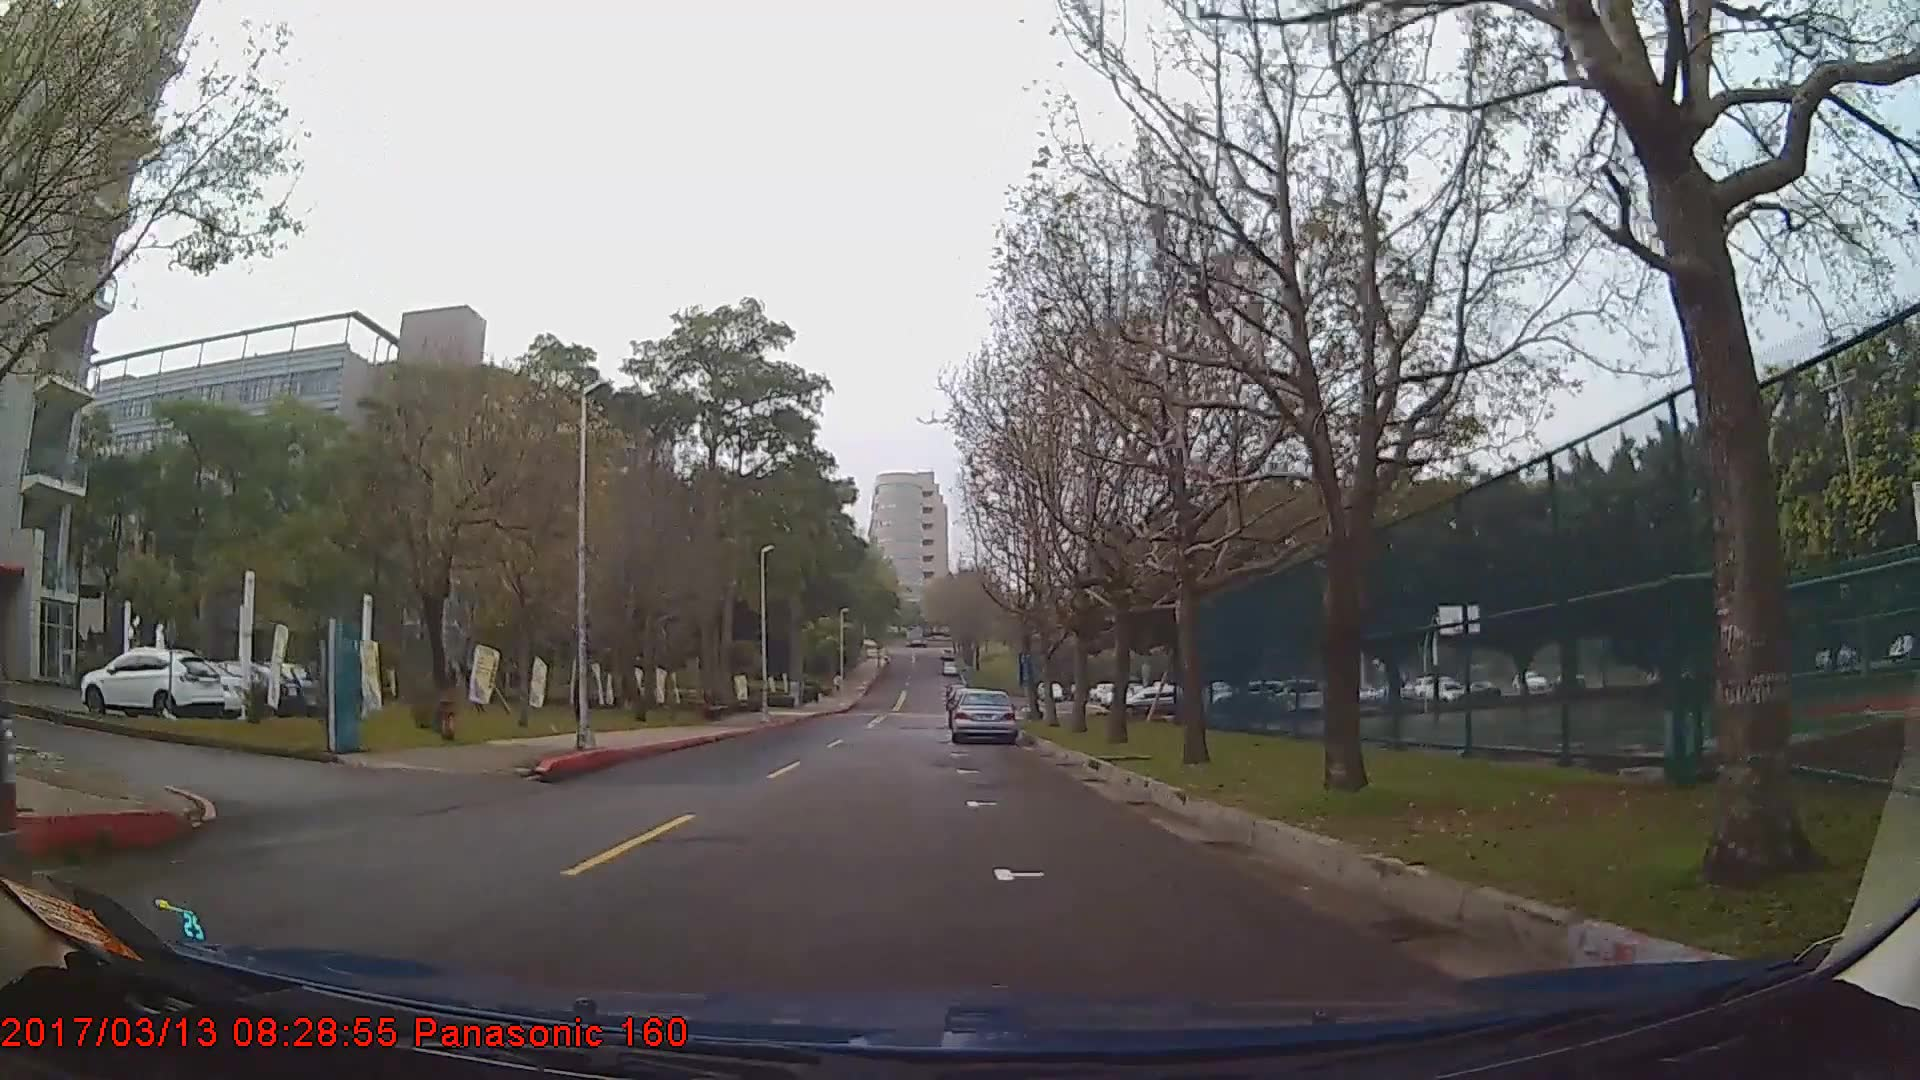vehicle: (80, 646, 225, 719), (951, 684, 1019, 742)
